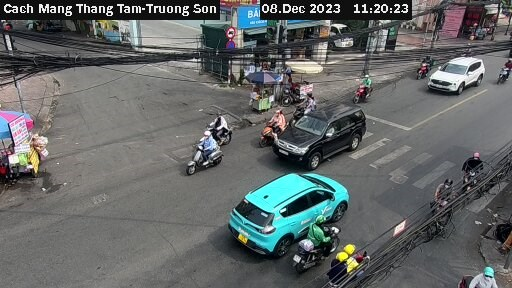car: (227, 173, 350, 252), (274, 102, 371, 168), (427, 50, 486, 97)
motorbike: (291, 226, 342, 263), (325, 247, 379, 280), (185, 137, 222, 175), (426, 192, 461, 232), (456, 163, 490, 200), (199, 117, 236, 145), (257, 115, 285, 143), (351, 82, 382, 107), (411, 56, 436, 78), (494, 58, 511, 87), (288, 103, 313, 122)
